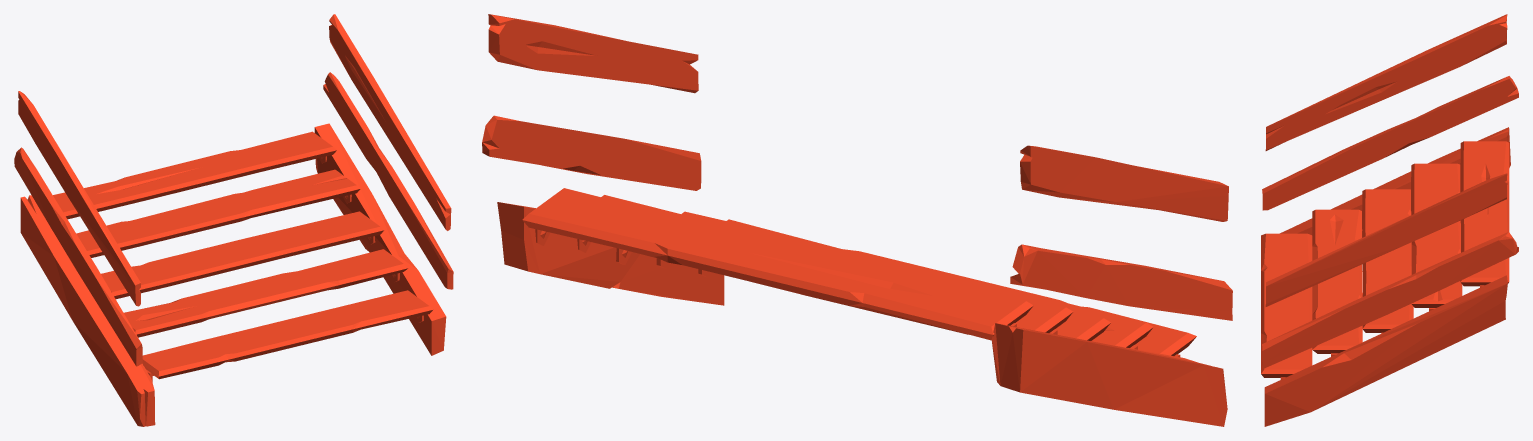
The model's file is SM_Pier_Stairs_Railing_City.fbx.
3 views of the same model, side by side, from view 1: azimuth 30°, elevation 25°; view 2: azimuth 150°, elevation 25°; view 3: azimuth 270°, elevation 25° (orthographic). The views are drawn at different scales.
Visible parts, largest first — view 1: SM_Pier_Stairs_Railing_City; view 2: SM_Pier_Stairs_Railing_City; view 3: SM_Pier_Stairs_Railing_City.
Boxes of the visible parts, left/top/right/bottom form: SM_Pier_Stairs_Railing_City: left=14, top=14, right=453, bottom=426; SM_Pier_Stairs_Railing_City: left=482, top=14, right=1232, bottom=426; SM_Pier_Stairs_Railing_City: left=1261, top=14, right=1518, bottom=426.
Size of the model in its own units: 3.07 by 2.33 by 2.09.
